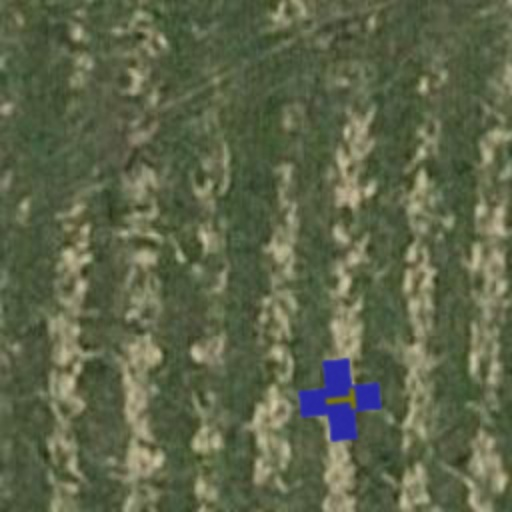cross: (294, 354, 386, 446)
